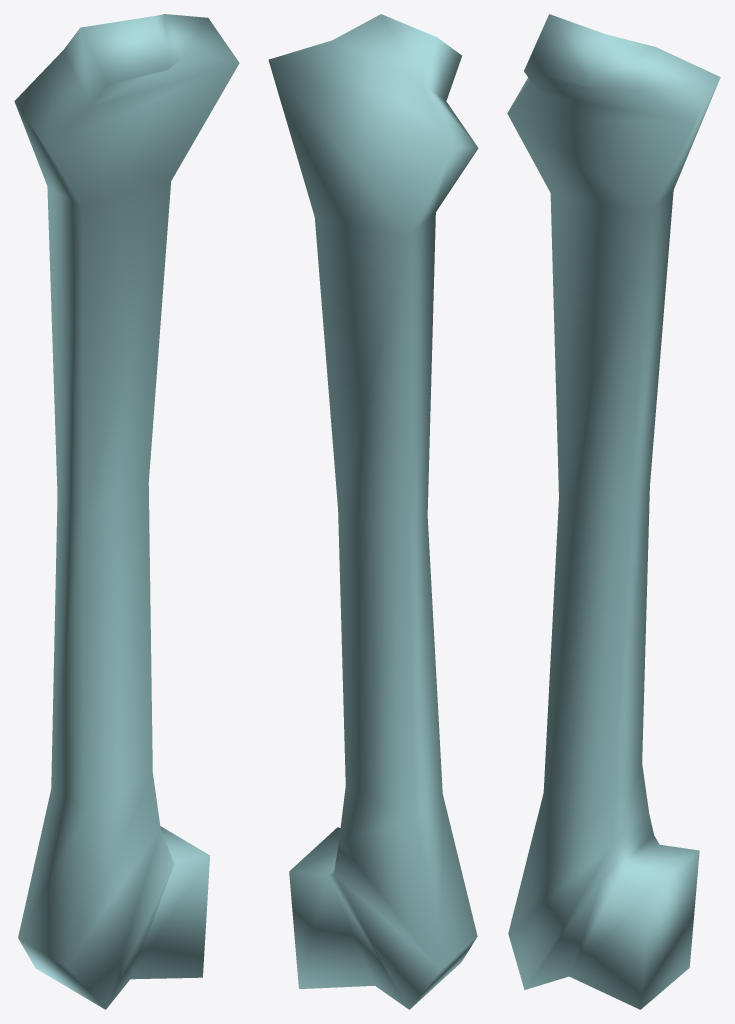
File: Skelly_upper_arm.L.fbx
3 views of the same model, side by side, from view 1: azimuth 30°, elevation 25°; view 2: azimuth 150°, elevation 25°; view 3: azimuth 330°, elevation 25° (orthographic). The views are drawn at different scales.
Parts seen in each view (by area): view 1: Skelly_upper_arm.L; view 2: Skelly_upper_arm.L; view 3: Skelly_upper_arm.L.
Part boxes in pixels (x1=…): Skelly_upper_arm.L: x1=14, y1=14, x2=239, y2=1009; Skelly_upper_arm.L: x1=268, y1=14, x2=478, y2=1009; Skelly_upper_arm.L: x1=507, y1=14, x2=720, y2=1009.
Bounding box in the file's own units: 8.04 × 38.49 × 5.02.
